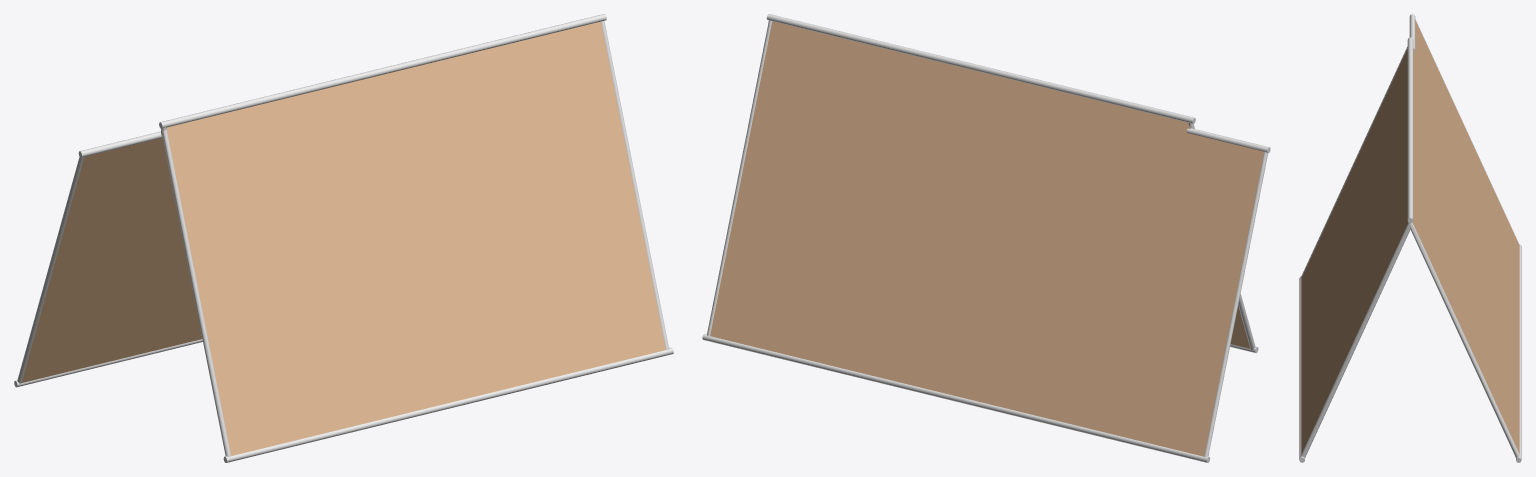
The model's file is SP_House09_Roof01.fbx.
The picture shows the model from 3 angles, left to right: view 1: azimuth 30°, elevation 25°; view 2: azimuth 150°, elevation 25°; view 3: azimuth 270°, elevation 25°; orthographic projection. The views are drawn at different scales.
Visible parts, largest first — view 1: SP_House09_Roof01; view 2: SP_House09_Roof01; view 3: SP_House09_Roof01.
Boxes of the visible parts, left/top/right/bottom form: SP_House09_Roof01: left=14, top=14, right=673, bottom=462; SP_House09_Roof01: left=702, top=14, right=1270, bottom=462; SP_House09_Roof01: left=1299, top=14, right=1521, bottom=462.
Bounding box in the file's own units: 20.32 × 10.8 × 8.92.
